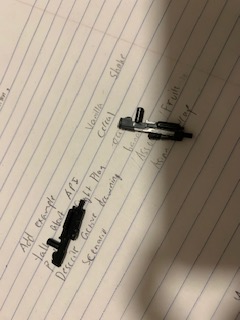rifle: (112, 103, 200, 146), (44, 198, 88, 269)
